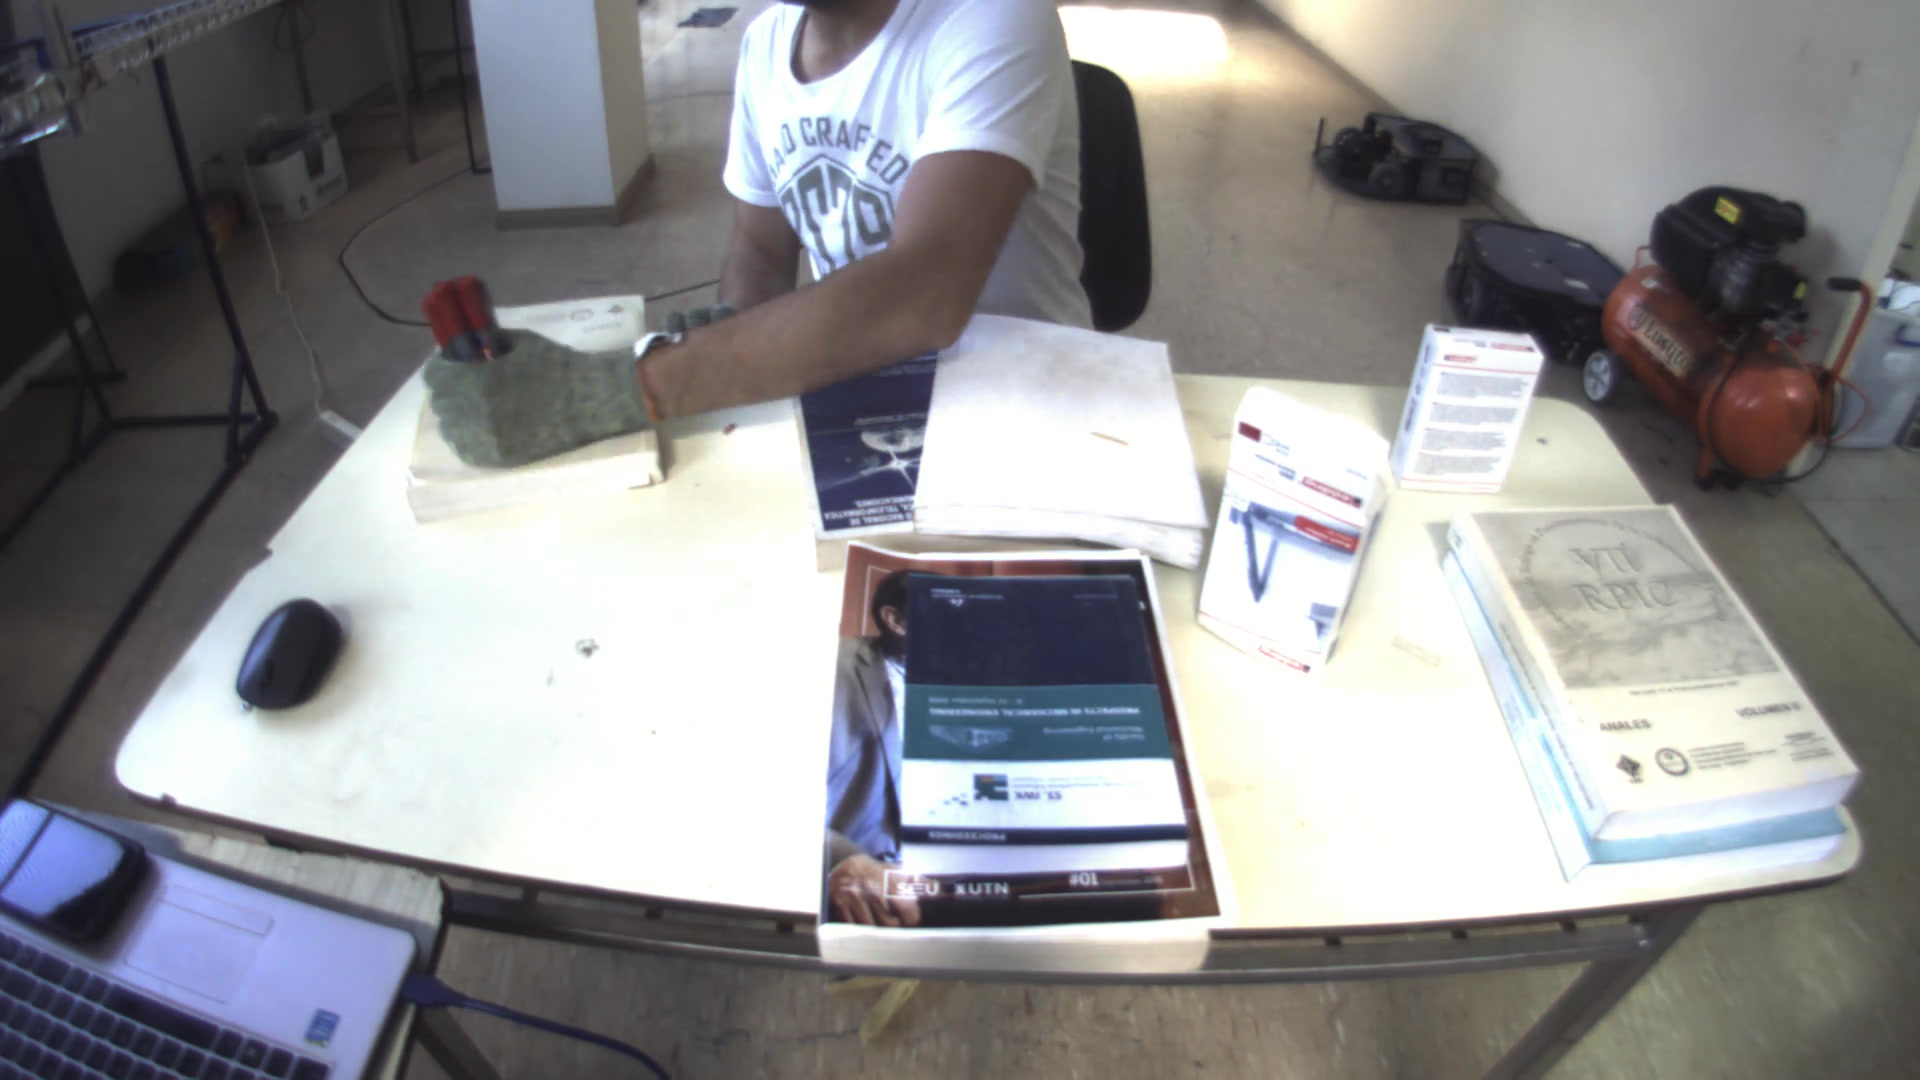hand: (419, 338, 670, 473)
